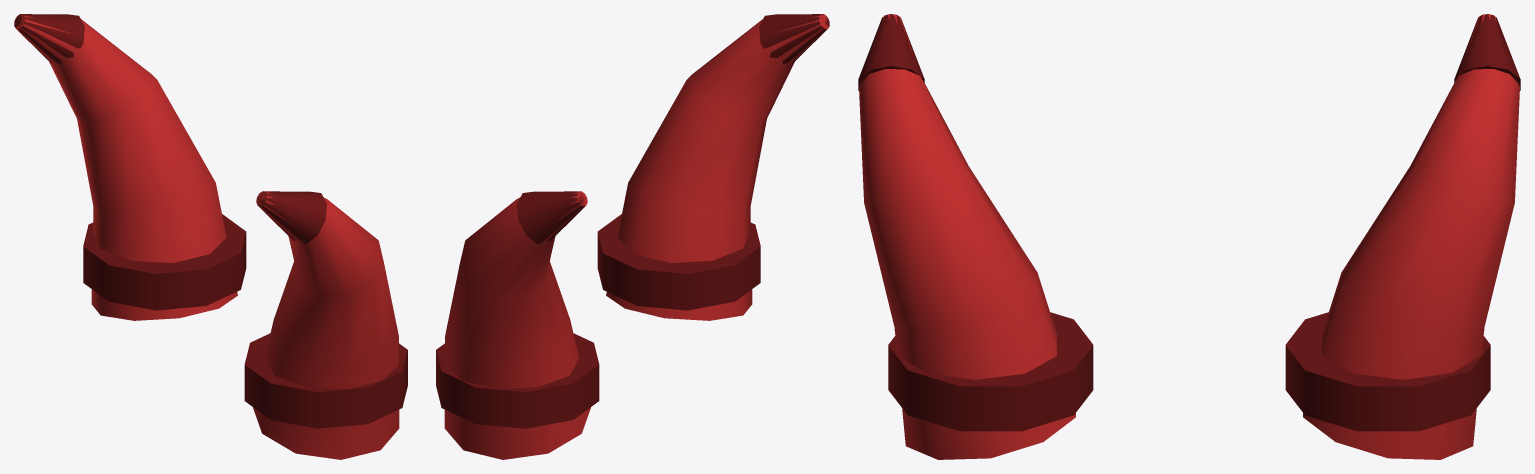
The model's file is hat-horns.glb.
3 renders of one model, left to right at view 1: azimuth 30°, elevation 25°; view 2: azimuth 150°, elevation 25°; view 3: azimuth 270°, elevation 25°, orthographic. The views are drawn at different scales.
Visible parts, largest first — view 1: Hat; view 2: Hat; view 3: Hat.
Part boxes in pixels (x1,y1,x2,y2): Hat: (14,14,407,459); Hat: (436,14,829,459); Hat: (858,14,1520,459).
Bounding box in the file's own units: 0.1521 × 0.2397 × 0.3999.
